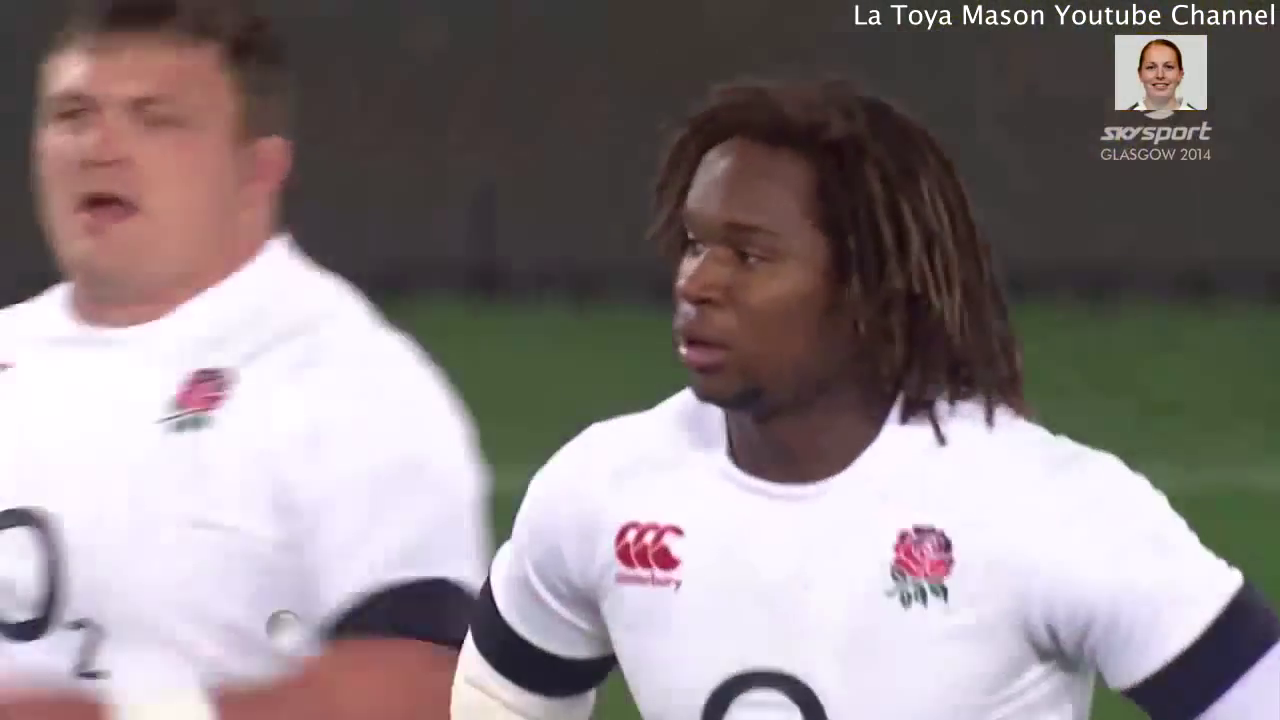player: (441, 84, 1280, 720), (1, 15, 496, 720)
